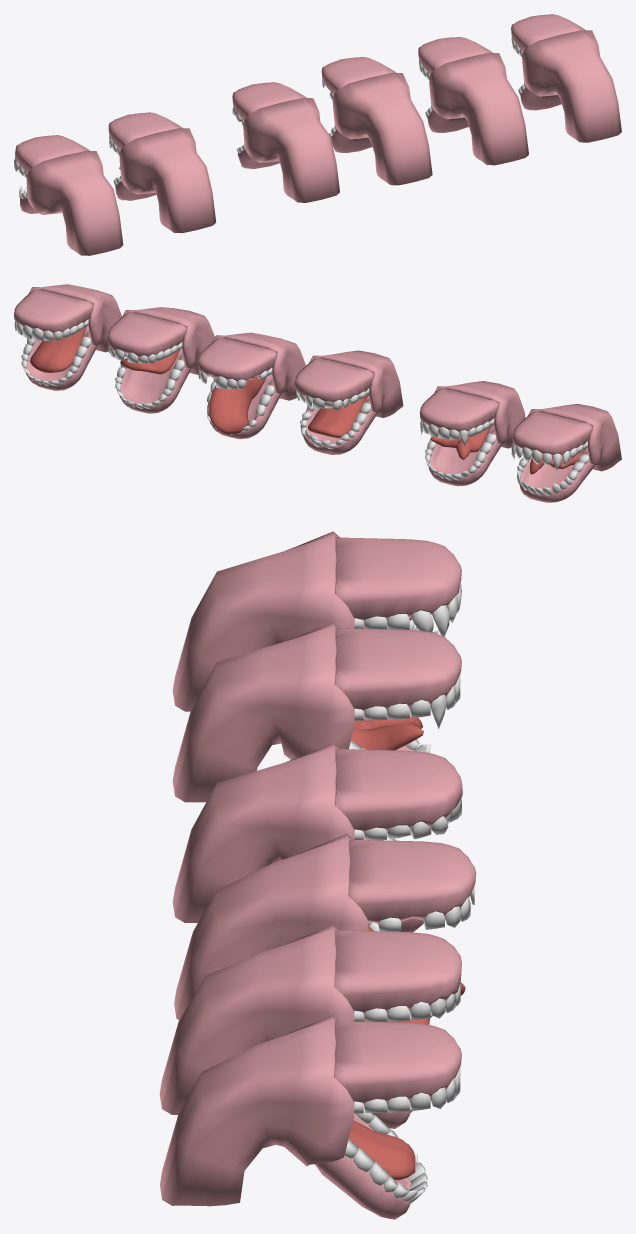
The model's file is PREVIEW of all Dentures for Sketchfab.fbx.
The picture shows the model from 3 angles, top to bottom: view 1: azimuth 30°, elevation 25°; view 2: azimuth 150°, elevation 25°; view 3: azimuth 270°, elevation 25°; orthographic projection. The views are drawn at different scales.
Visible parts, largest first — view 1: HwMT - Throat, Human - Throat, HwTG - Throat, Vampire - Throat, HwCT - Throat, Werewolf - Throat, Werewolf - Upper Jaw, Human - Upper Jaw, HwTG - Upper Jaw, HwCT - Upper Jaw, Vampire - Upper Jaw, HwMT - Upper Jaw (+5 smaller); view 2: Werewolf - Upper Jaw, Vampire - Upper Jaw, Human - Upper Jaw, HwTG - Upper Jaw, HwCT - Upper Jaw, HwMT - Upper Jaw, HwTG - Lower Jaw, HwCT - Throat, Vampire - Lower Jaw, Werewolf - Throat, Werewolf - Lower Jaw, HwMT - Throat (+12 smaller); view 3: Human - Throat, Vampire - Throat, HwCT - Throat, HwTG - Throat, Werewolf - Throat, HwMT - Throat, Werewolf - Upper Jaw, Vampire - Upper Jaw, Human - Upper Jaw, HwTG - Upper Jaw, HwCT - Upper Jaw, HwMT - Upper Jaw (+3 smaller).
Part boxes in pixels (box(x1,y1,x2,y2)): HwMT - Throat: box(332, 72, 432, 185); Human - Throat: box(522, 30, 621, 142); HwTG - Throat: box(429, 52, 528, 165); Vampire - Throat: box(119, 128, 216, 233); HwCT - Throat: box(243, 98, 339, 202); Werewolf - Throat: box(26, 150, 123, 255); Werewolf - Upper Jaw: box(14, 135, 89, 178); Human - Upper Jaw: box(511, 14, 585, 56); HwTG - Upper Jaw: box(418, 37, 492, 79); HwCT - Upper Jaw: box(232, 82, 306, 126); Vampire - Upper Jaw: box(108, 112, 182, 154); HwMT - Upper Jaw: box(321, 57, 396, 99); Werewolf - Upper Jaw: box(511, 411, 591, 470); Vampire - Upper Jaw: box(419, 388, 498, 446); Human - Upper Jaw: box(14, 289, 92, 341); HwTG - Upper Jaw: box(107, 312, 186, 363); HwCT - Upper Jaw: box(294, 358, 373, 410); HwMT - Upper Jaw: box(197, 337, 276, 389); HwTG - Lower Jaw: box(115, 353, 191, 413); HwCT - Throat: box(309, 350, 403, 417); Vampire - Lower Jaw: box(425, 430, 502, 486); Werewolf - Throat: box(528, 404, 621, 471); Werewolf - Lower Jaw: box(517, 451, 595, 502); HwMT - Throat: box(211, 332, 305, 400); Human - Throat: box(160, 1015, 354, 1206); Vampire - Throat: box(172, 622, 354, 802); HwCT - Throat: box(172, 743, 354, 922); HwTG - Throat: box(159, 924, 354, 1114); Werewolf - Throat: box(172, 531, 354, 711); HwMT - Throat: box(174, 834, 368, 1019); Werewolf - Upper Jaw: box(335, 537, 461, 636); Vampire - Upper Jaw: box(335, 628, 461, 728); Human - Upper Jaw: box(334, 1021, 461, 1113); HwTG - Upper Jaw: box(335, 930, 461, 1021); HwCT - Upper Jaw: box(335, 749, 462, 840); HwMT - Upper Jaw: box(349, 840, 476, 931).
Bounding box in the file's own units: 90.85 × 13.01 × 22.15.
